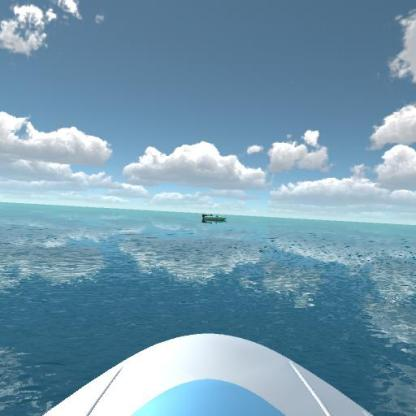usv0: (200, 211, 228, 229)
